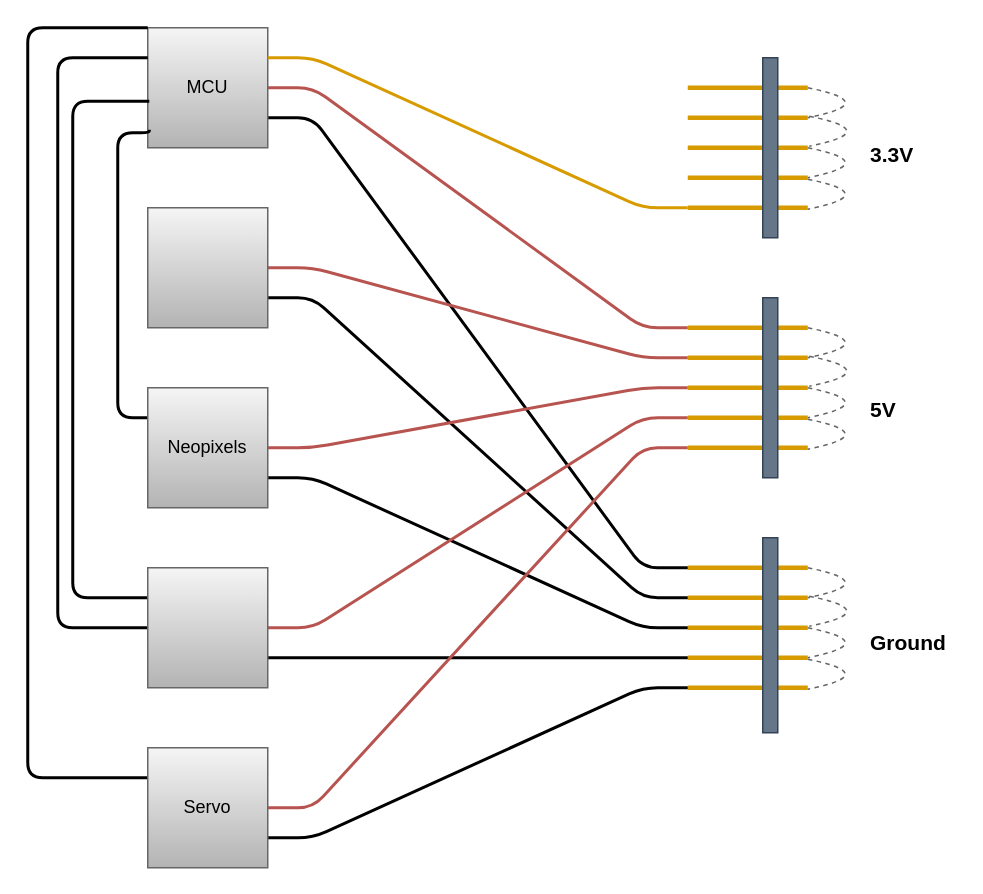
This 983x894 diagram has some shape labels left out. Each missing label, with the box of its shape:
Motor Driver: (146, 566, 268, 688)
Power Jack: (146, 206, 268, 328)
